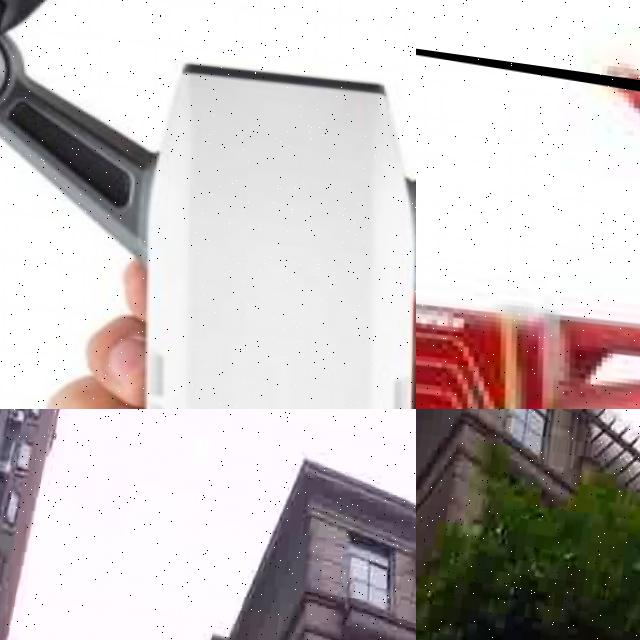drone: (0, 0, 416, 409), (416, 9, 640, 409)
